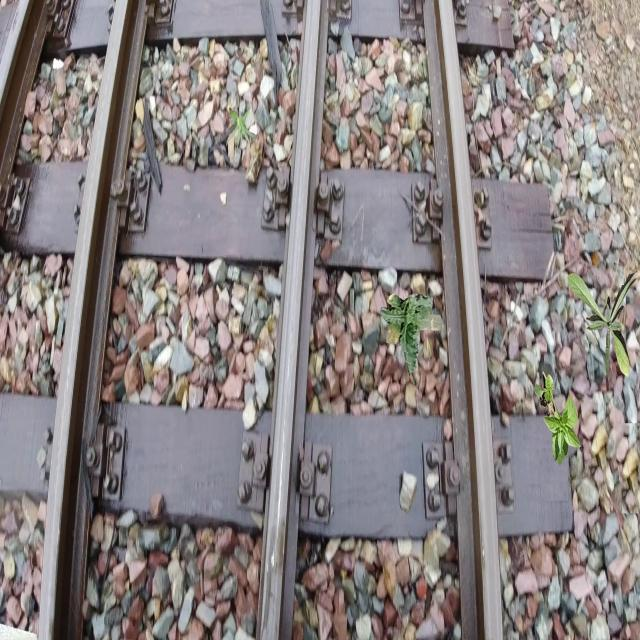Plant: (567, 271, 638, 379), (380, 294, 443, 377), (534, 371, 582, 466), (226, 106, 258, 152)
